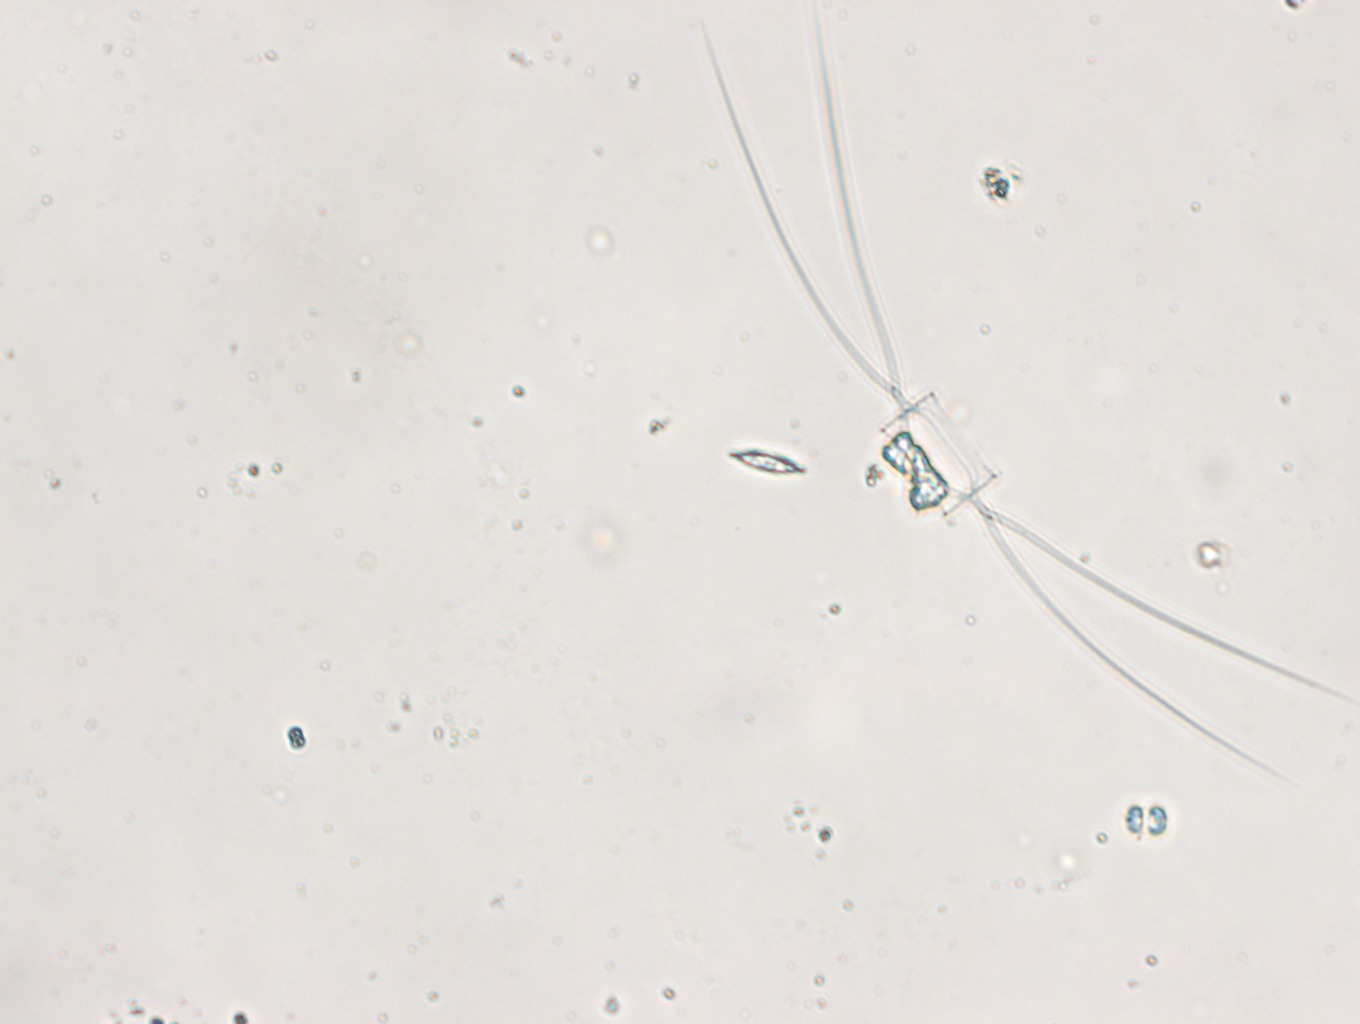chaetoceros: (692, 13, 1332, 770)
